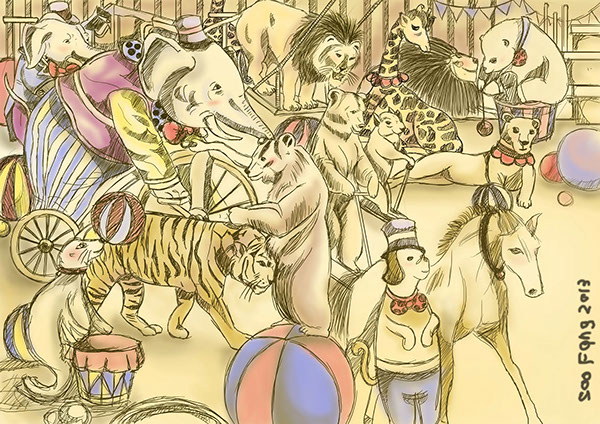bicycle: (14, 137, 264, 287)
dog: (360, 221, 450, 424)
